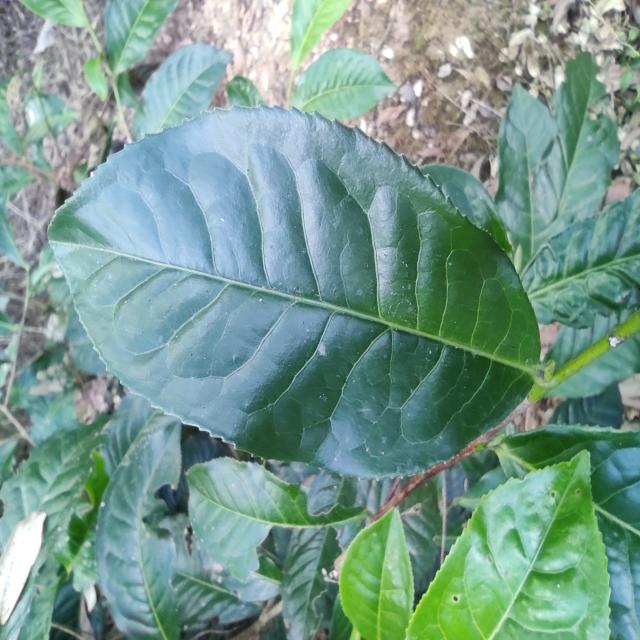Category D(7+ days, Not for Tea): (36, 106, 548, 488)
